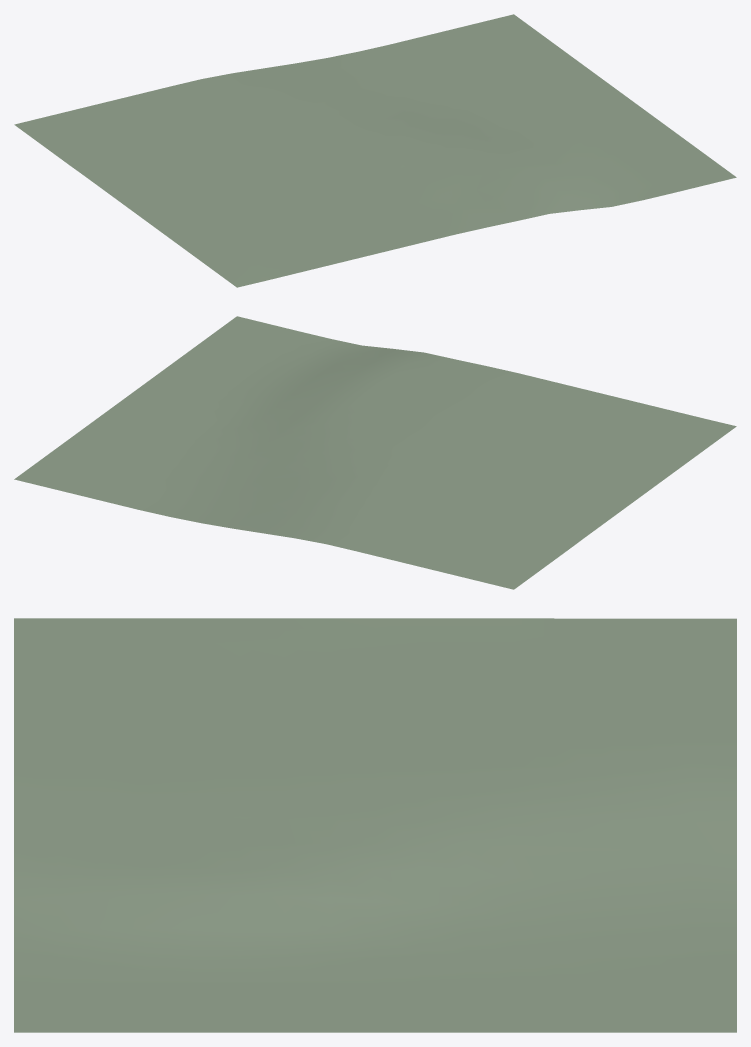
File: chunk_3_1_LOD1.glb
3 renders of one model, top to bottom at view 1: azimuth 30°, elevation 25°; view 2: azimuth 150°, elevation 25°; view 3: azimuth 270°, elevation 25°, orthographic. The views are drawn at different scales.
Size of the model in its own units: 110 by 2.49 by 85.
